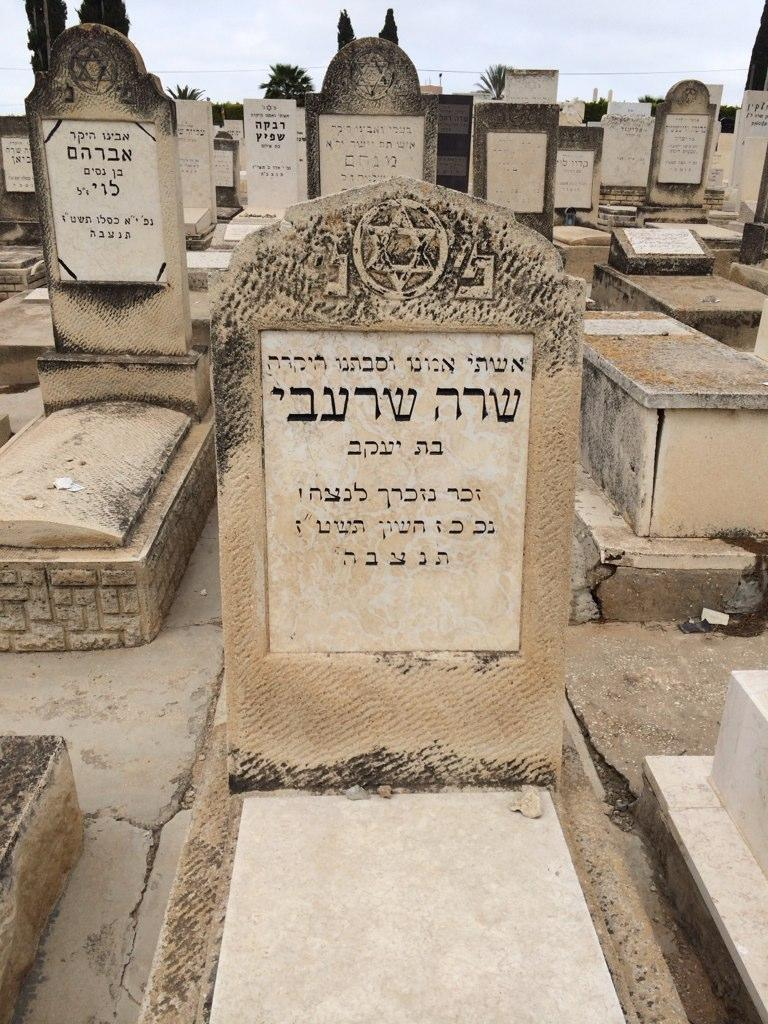vault: (133, 173, 692, 1023)
